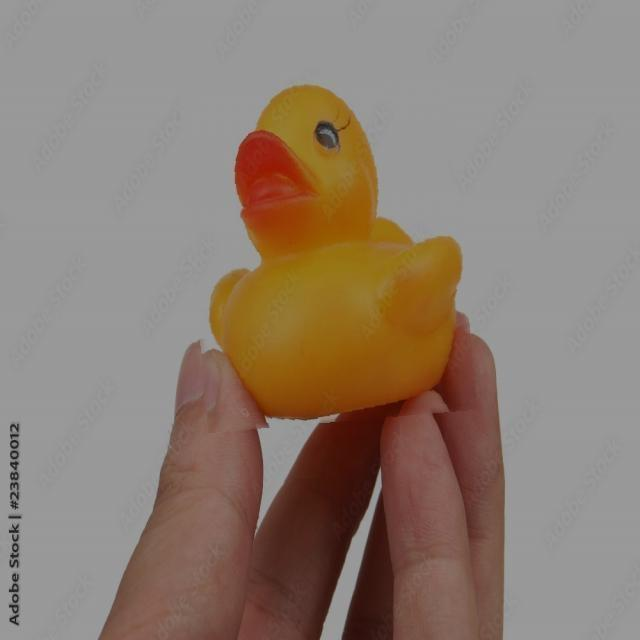rubber-duck: (209, 84, 459, 416)
